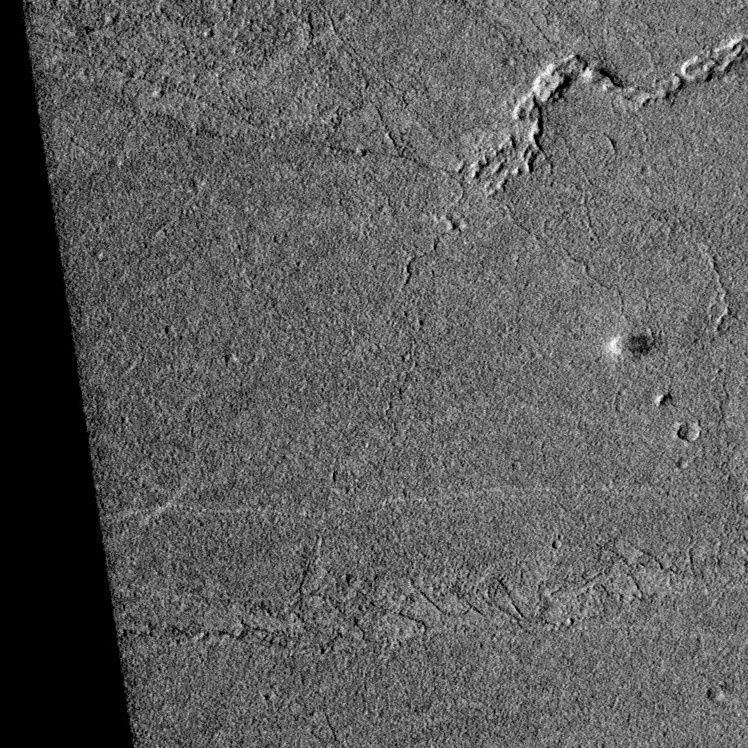dust_devil: (604, 332, 669, 361)
